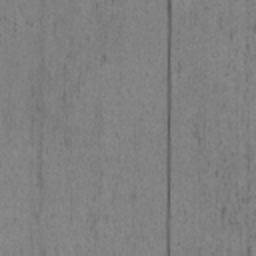Scratches: (166, 0, 172, 256)
